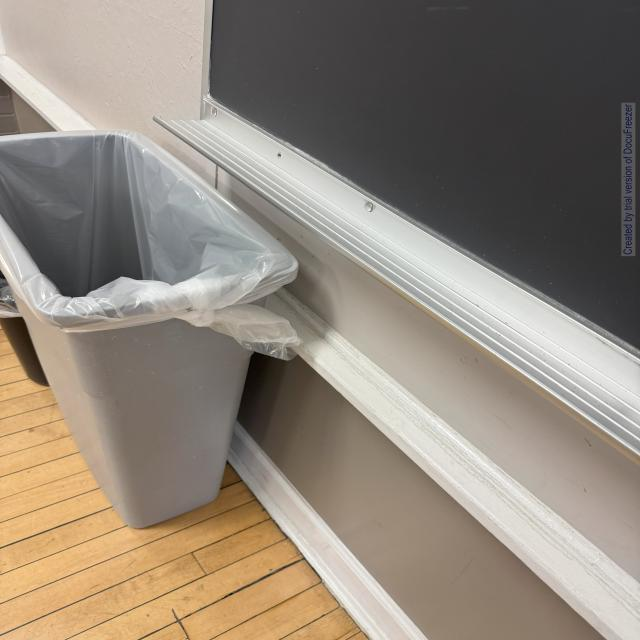Trash bin: (2, 120, 312, 569)
